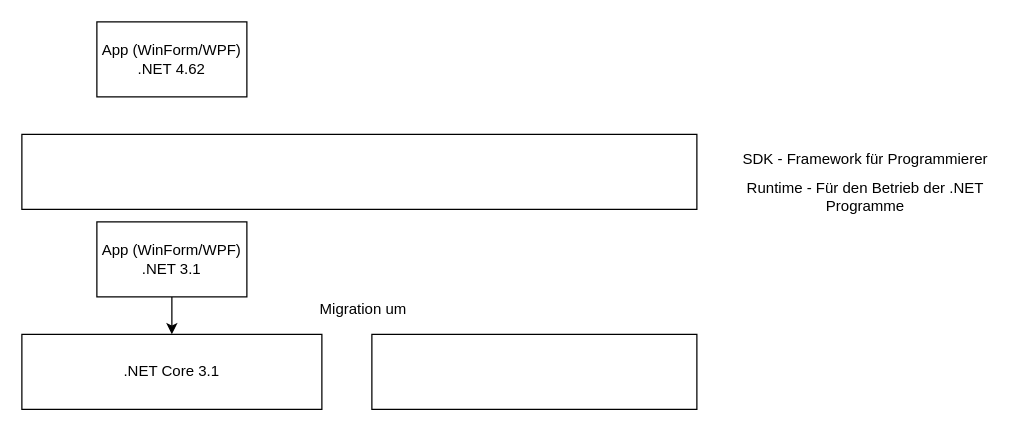
The diagram is 1019 pixels wide and 431 high, and some of its shapes have lost their labels. Here are the shapes that lost their labels. From the top down, the centre of each, then its label:
point (359, 171): .NET 4.8
point (534, 371): .NET 5
